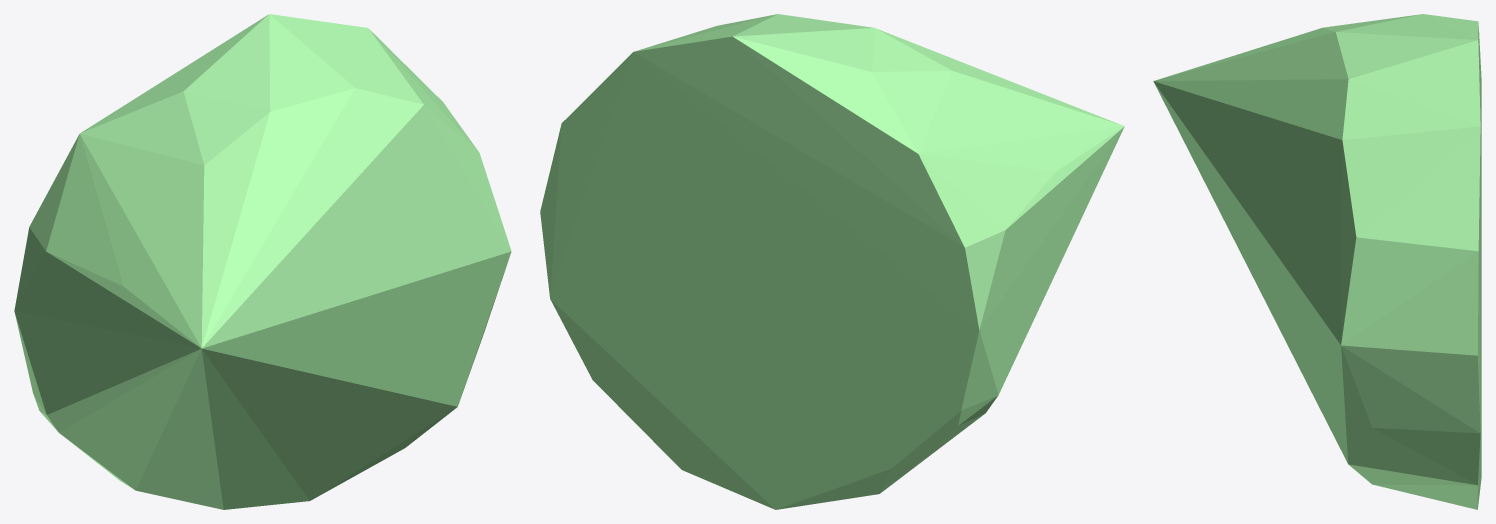
The model's file is Franka_link6_resp_coll_14.dae.
3 views of the same model, side by side, from view 1: azimuth 30°, elevation 25°; view 2: azimuth 150°, elevation 25°; view 3: azimuth 270°, elevation 25° (orthographic). The views are drawn at different scales.
Parts seen in each view (by area): view 1: node; view 2: node; view 3: node.
Boxes of the visible parts, box(x1,y1,x2,y2) form: node: box(14, 14, 511, 509); node: box(540, 14, 1124, 509); node: box(1153, 14, 1481, 509).
Bounding box in the file's own units: 0.0888 × 0.0888 × 0.0574.
